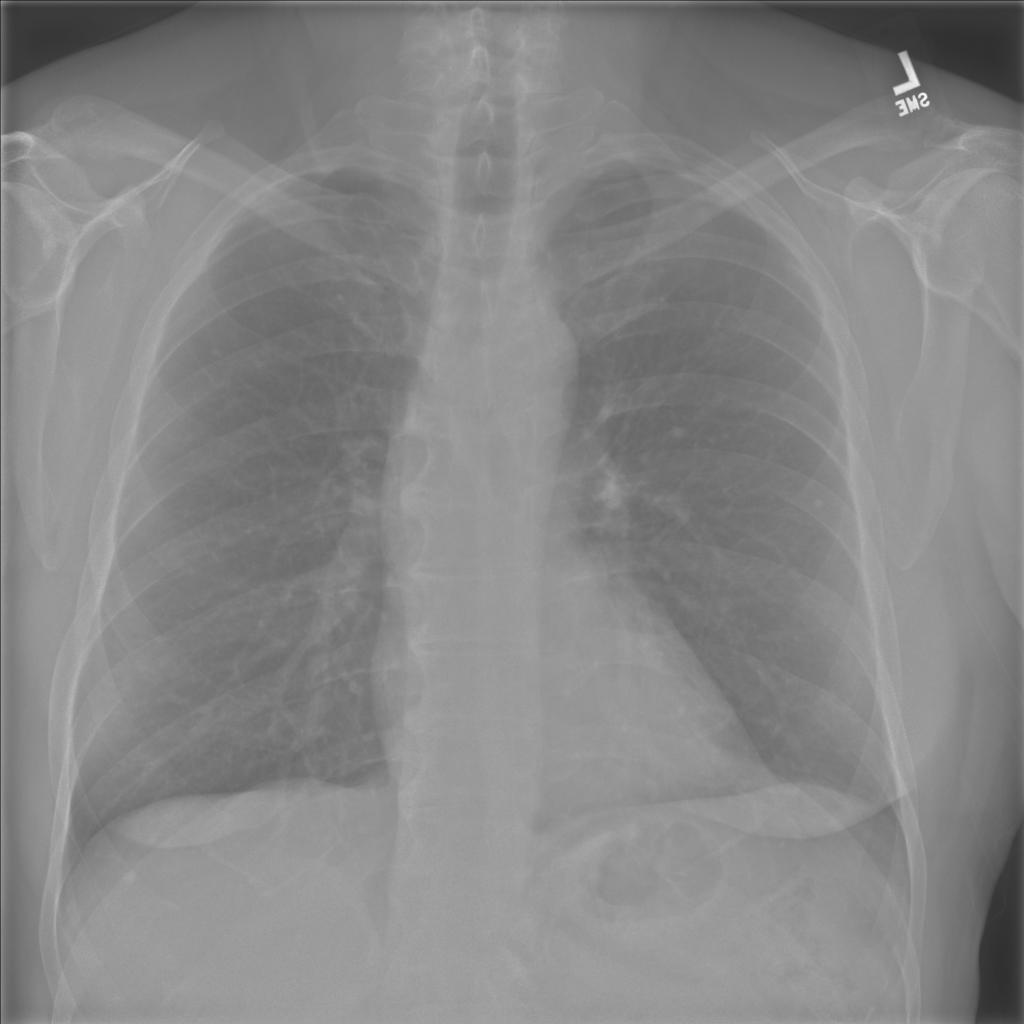Nodule: (81, 216, 117, 245)
